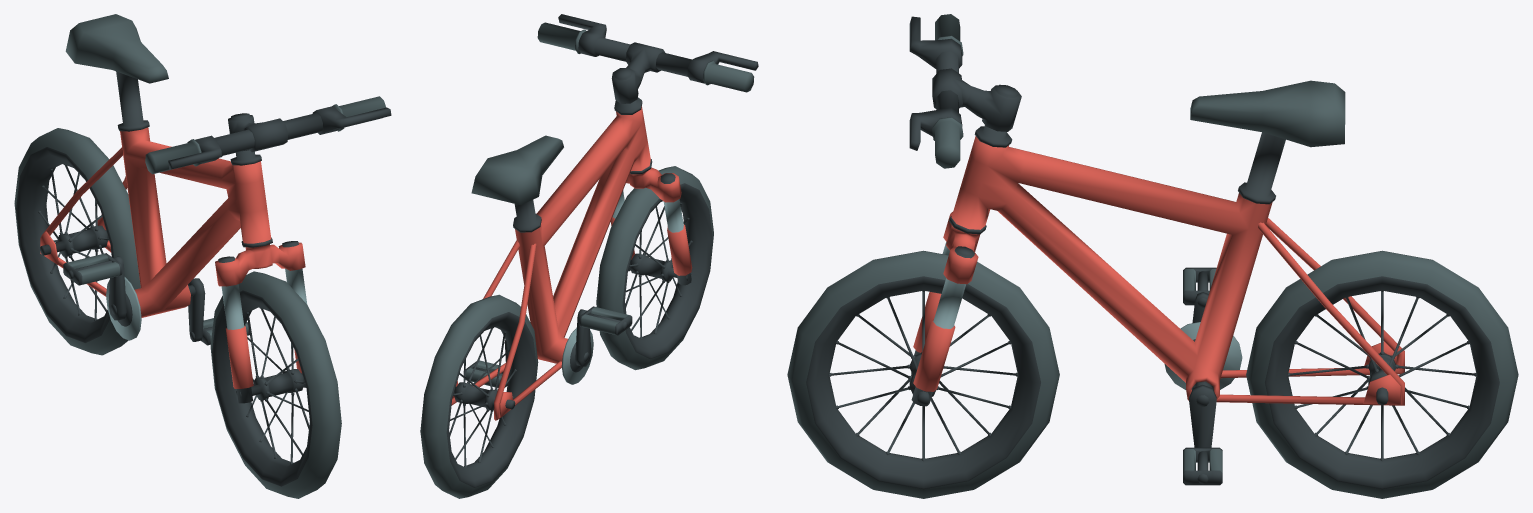
Rendered from Bike_01.fbx.
3 renders of one model, left to right at view 1: azimuth 30°, elevation 25°; view 2: azimuth 150°, elevation 25°; view 3: azimuth 270°, elevation 25°, orthographic. The views are drawn at different scales.
Visible parts, largest first — view 1: Bike_Frame, BikeTyre_front, BikeTyre_Rare, Bike_Handle, Bike_Seat, Bike_Paddle; view 2: Bike_Frame, BikeTyre_Rare, BikeTyre_front, Bike_Handle, Bike_Seat, Bike_Paddle; view 3: Bike_Frame, BikeTyre_Rare, BikeTyre_front, Bike_Seat, Bike_Handle, Bike_Paddle.
Boxes of the visible parts, x1,y1,x2,y2 form: Bike_Frame: [40, 127, 307, 403]; BikeTyre_front: [210, 271, 341, 498]; BikeTyre_Rare: [14, 128, 140, 355]; Bike_Handle: [145, 96, 391, 174]; Bike_Seat: [65, 14, 168, 131]; Bike_Paddle: [63, 253, 249, 345]; Bike_Frame: [451, 106, 692, 420]; BikeTyre_Rare: [420, 294, 538, 498]; BikeTyre_front: [596, 166, 713, 370]; Bike_Handle: [537, 14, 758, 114]; Bike_Seat: [471, 135, 563, 232]; Bike_Paddle: [465, 306, 632, 387]; Bike_Frame: [911, 136, 1404, 406]; BikeTyre_Rare: [1246, 250, 1518, 498]; BikeTyre_front: [787, 250, 1059, 498]; Bike_Seat: [1190, 80, 1345, 204]; Bike_Handle: [909, 14, 1021, 168]; Bike_Paddle: [1183, 267, 1222, 485].
Size of the model in its own units: 75.39 by 113 by 177.
